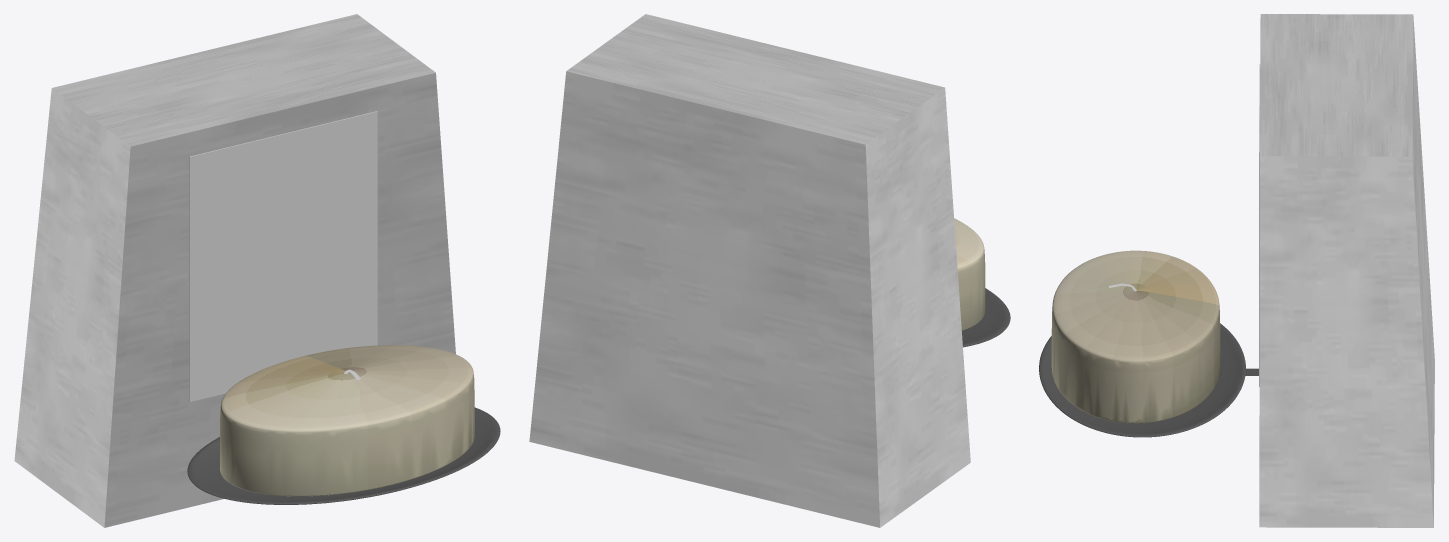
File: sh-contrib-candle-ornament.glb
The picture shows the model from 3 angles, left to right: view 1: azimuth 30°, elevation 25°; view 2: azimuth 150°, elevation 25°; view 3: azimuth 270°, elevation 25°; orthographic projection. The views are drawn at different scales.
Visible parts, largest first — view 1: CandleOrnament_1, CandleOrnament_4, CandleOrnament_2, CandleOrnament_3; view 2: CandleOrnament_1, CandleOrnament_2, CandleOrnament_3; view 3: CandleOrnament_1, CandleOrnament_2, CandleOrnament_3.
Part boxes in pixels (left/top/right/bottom): CandleOrnament_1: left=14, top=14, right=455, bottom=527; CandleOrnament_4: left=189, top=111, right=377, bottom=401; CandleOrnament_2: left=220, top=345, right=474, bottom=496; CandleOrnament_3: left=187, top=407, right=500, bottom=504; CandleOrnament_1: left=529, top=14, right=970, bottom=527; CandleOrnament_2: left=954, top=218, right=985, bottom=330; CandleOrnament_3: left=962, top=288, right=1010, bottom=347; CandleOrnament_1: left=1259, top=14, right=1434, bottom=527; CandleOrnament_2: left=1051, top=250, right=1220, bottom=423; CandleOrnament_3: left=1039, top=323, right=1258, bottom=437.
Size of the model in its own units: 1 by 1 by 1.
Materials: 5 (2 with a texture image).
